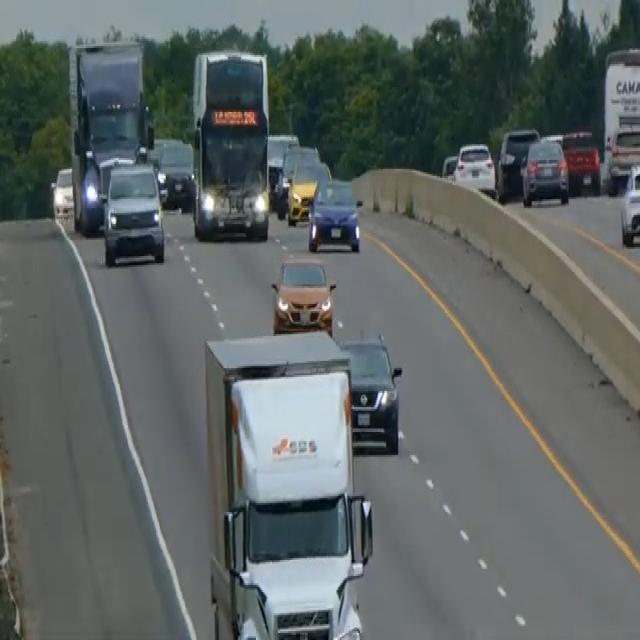bus: (190, 46, 271, 242)
car: (339, 329, 402, 455), (101, 158, 165, 267), (270, 251, 336, 334), (306, 176, 362, 252), (520, 135, 570, 206), (274, 142, 320, 215), (497, 125, 540, 198), (286, 158, 332, 226), (156, 138, 195, 210), (561, 126, 601, 194), (453, 140, 496, 196), (619, 158, 639, 247), (51, 166, 74, 220), (440, 151, 458, 181)
lorry: (202, 327, 375, 637), (66, 32, 155, 233)
